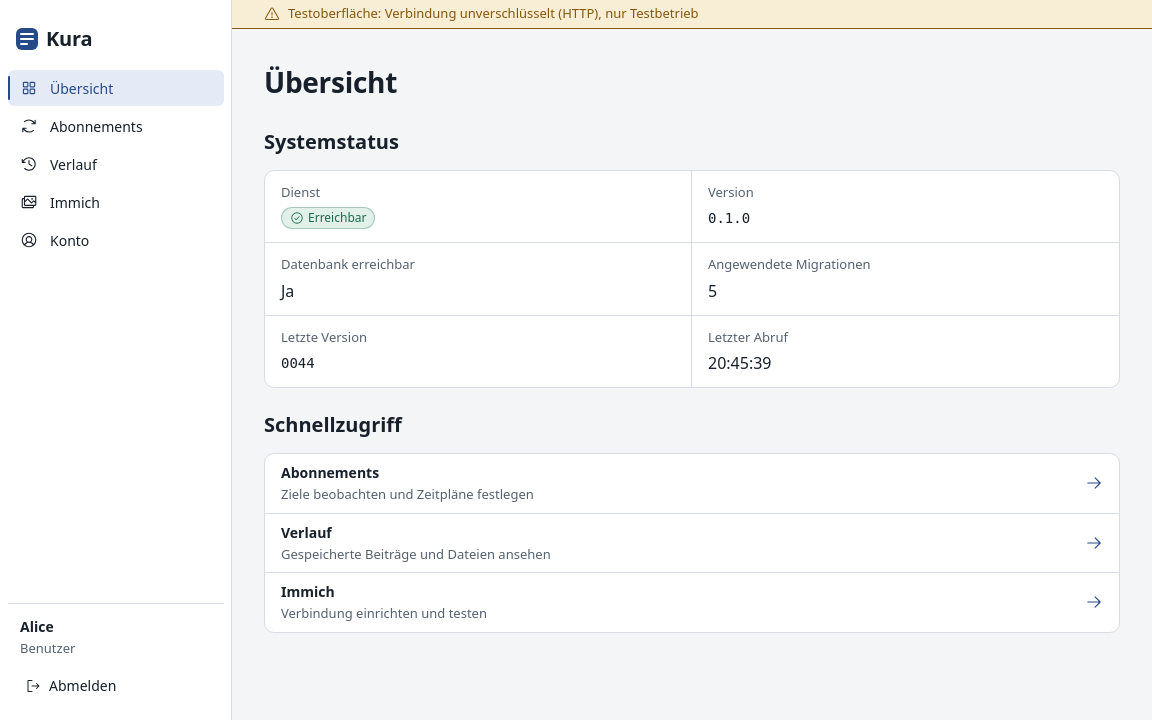
Test: shows the server message when the subscription is rejected
Check: the text "Erreichbar" is shown, box [281,207,376,229]
Click the button "Abonnements": x=116, y=126 [8,108,224,144]
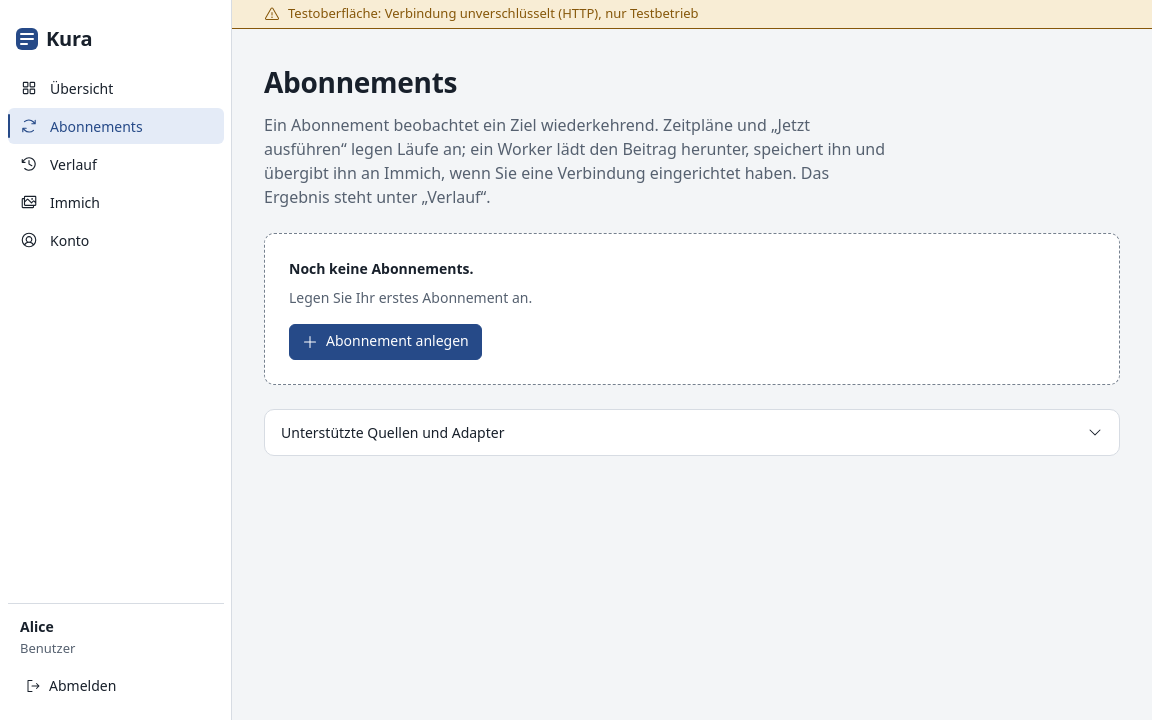
Check: the heading "Abonnements" is shown, box [264,65,457,100]
Click the button "Abonnement anlegen": x=385, y=342 [289,324,482,360]
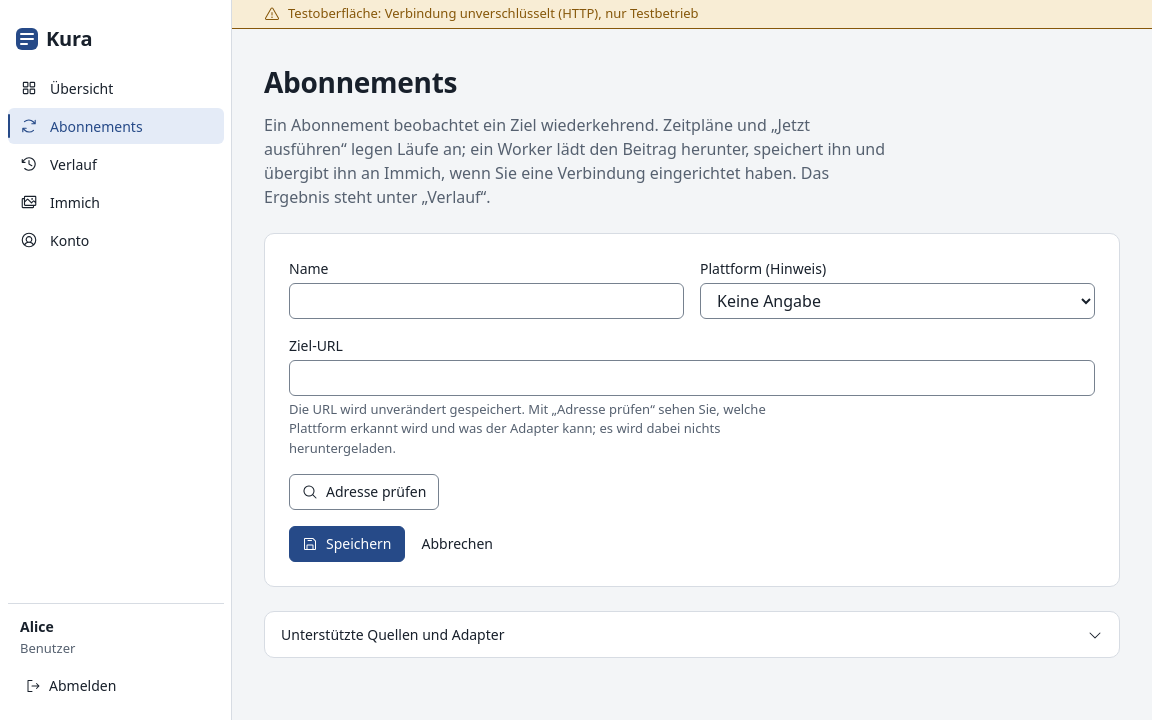
In the field labelled "Name": x=486, y=300 [289,282,684,318], type "x"
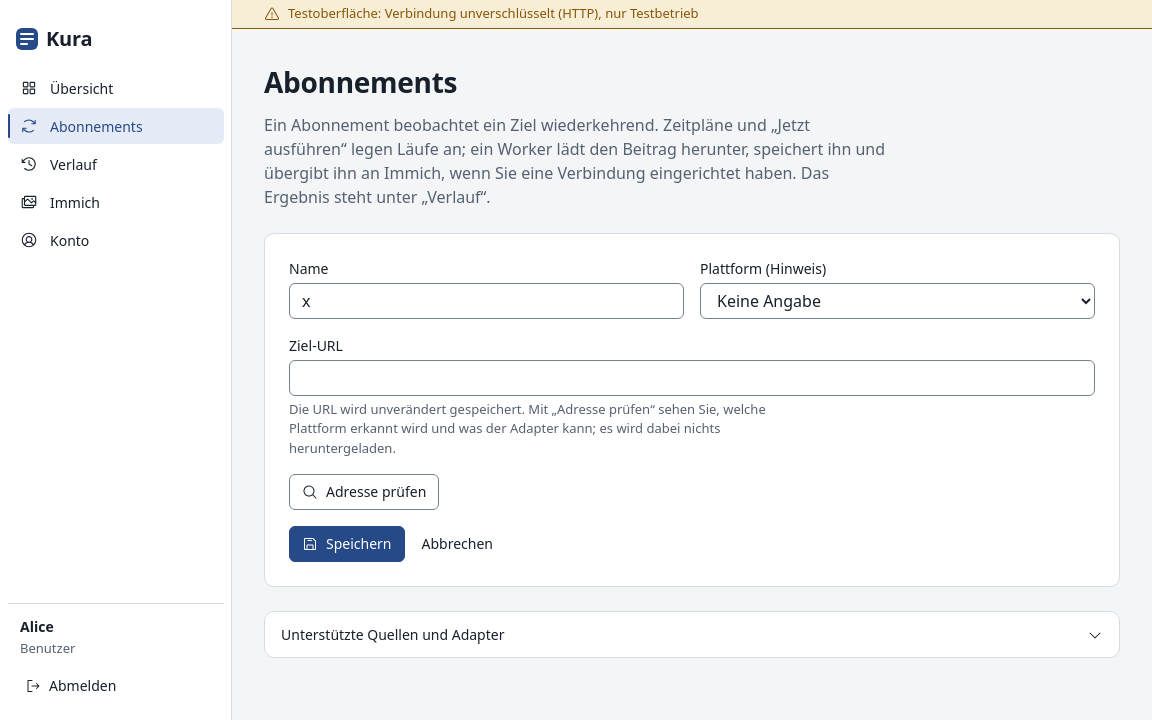
In the field labelled "Ziel-URL": x=692, y=378 [289,360,1095,396], type "y"
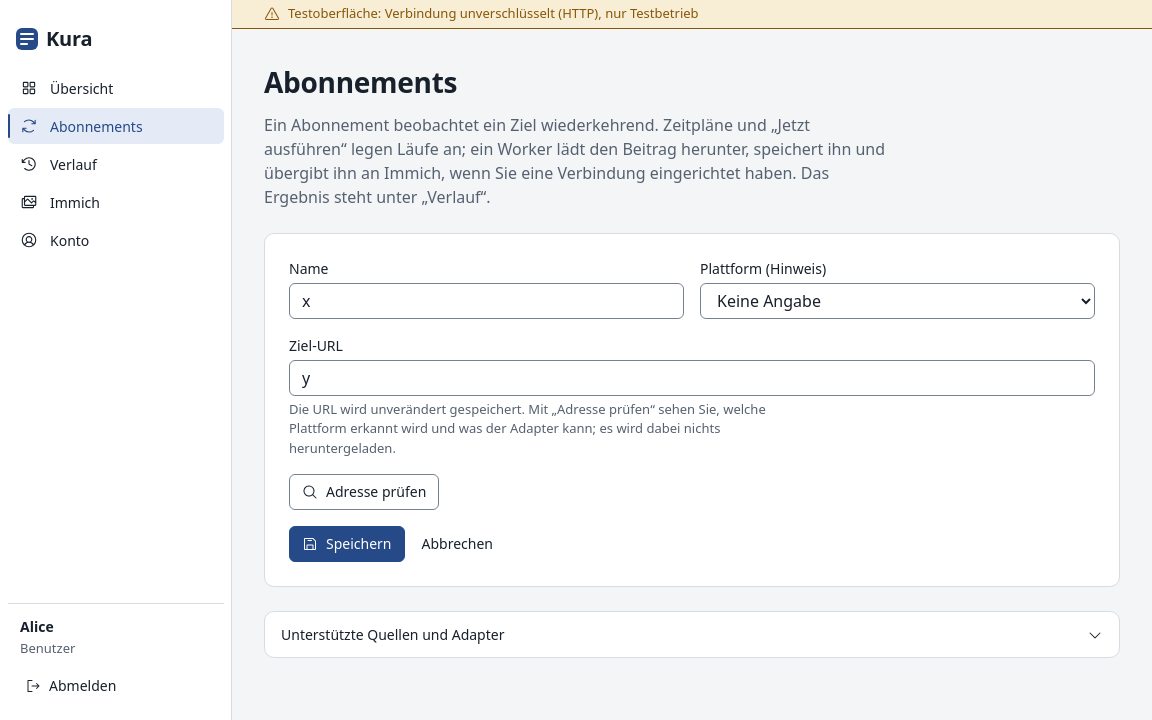
Submit the form named "Abonnement anlegen", box [264,232,1120,587]
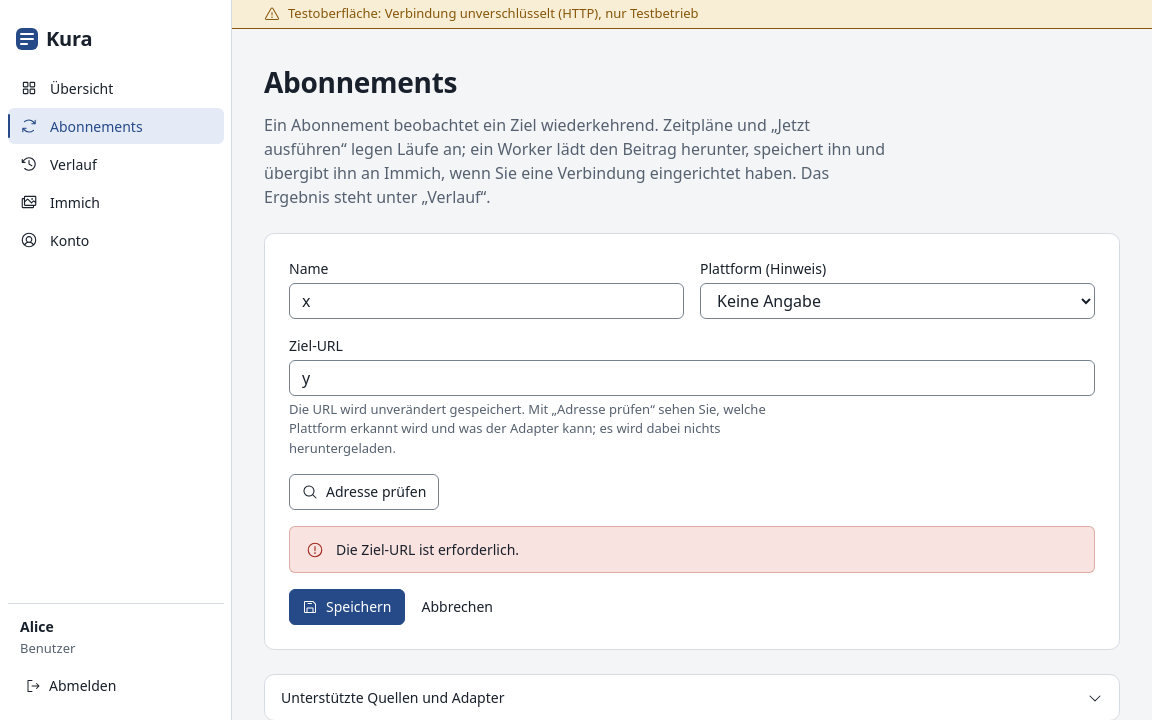
Check: the message reads "Die Ziel-URL ist erforderlich.", box [336,540,519,559]
